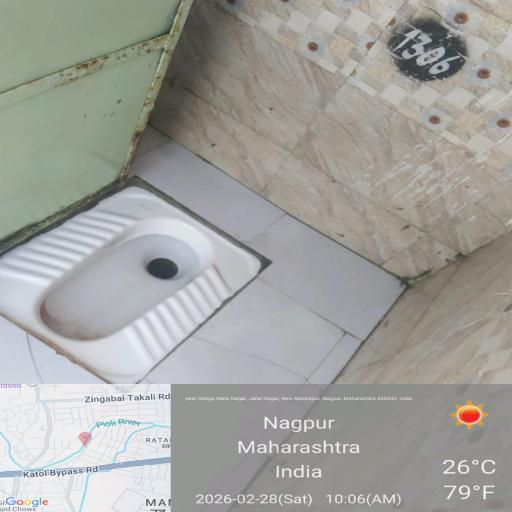clean_floor: (170, 0, 512, 211), (268, 248, 512, 390)
partial_dirty_floor: (372, 134, 501, 289), (58, 41, 170, 150)
partial_dirty_indian: (0, 221, 251, 364)
